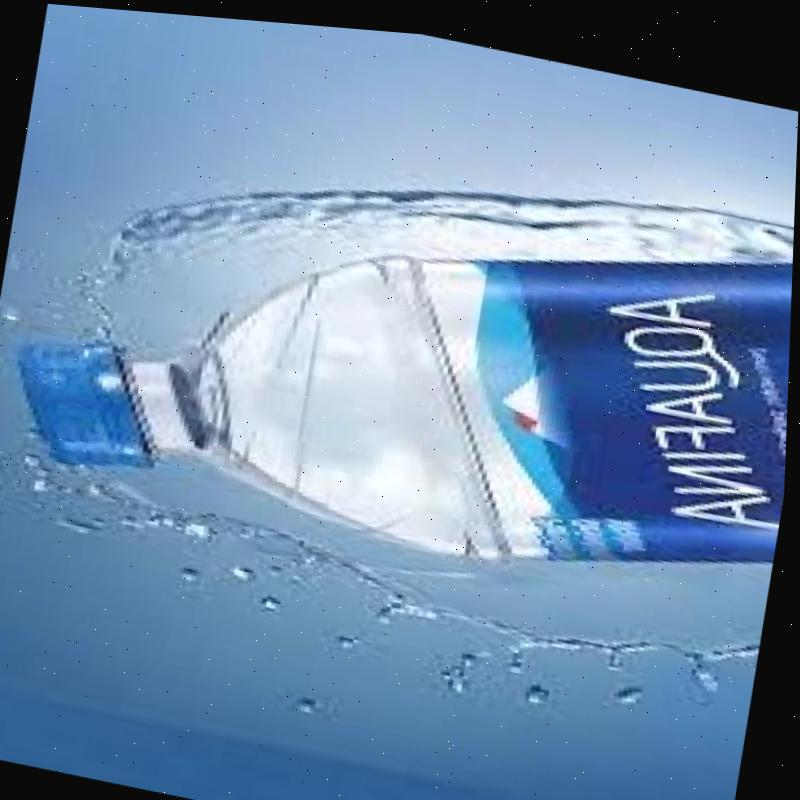botella: (0, 103, 797, 611)
